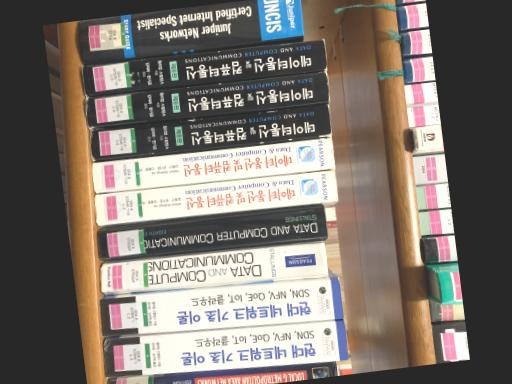book-spine: (78, 0, 303, 64), (81, 38, 326, 96), (85, 71, 329, 128), (103, 321, 347, 378), (100, 279, 343, 336), (90, 105, 330, 161), (92, 138, 334, 193), (95, 170, 337, 225), (97, 205, 327, 260), (100, 243, 326, 292), (107, 361, 337, 384)
